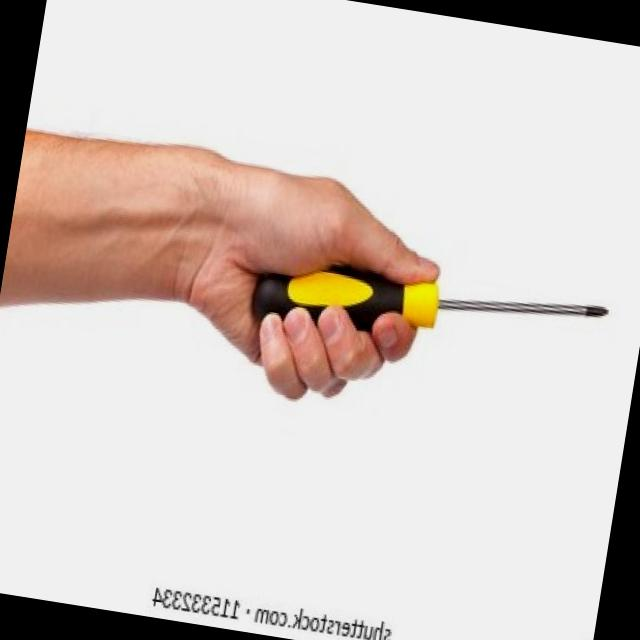screwdriver: (252, 266, 607, 332)
